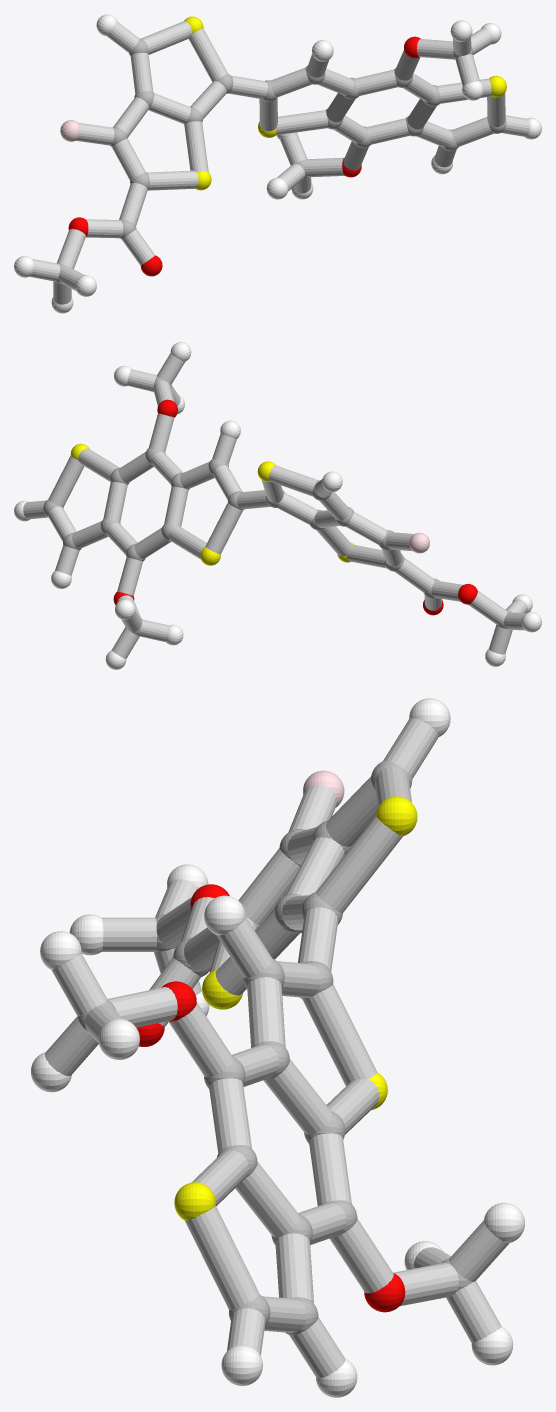
Rendered from Dimethoxy_Benzodithiophene_Phi_10_Theta_70_Methylcarbonyl_3_Fluoro_Thienothiophene.glb.
3 views of the same model, one above another, from view 1: azimuth 30°, elevation 25°; view 2: azimuth 150°, elevation 25°; view 3: azimuth 270°, elevation 25° (orthographic). The views are drawn at different scales.
Visible parts, largest first — view 1: grp15205, grp8689, grp1, grp13395, grp7241, grp14843; view 2: grp15205, grp8689, grp1, grp13395, grp7241; view 3: grp15205, grp8689, grp1, grp7241, grp13395.
Part boxes in pixels (box(x1,y1,x2,y2)): grp15205: box(29, 21, 530, 304); grp8689: box(14, 14, 541, 313); grp1: box(55, 38, 506, 284); grp13395: box(68, 36, 420, 276); grp7241: box(184, 16, 506, 190); grp14843: box(60, 120, 80, 141); grp15205: box(23, 353, 527, 658); grp8689: box(14, 342, 541, 669); grp1: box(43, 376, 511, 635); grp13395: box(113, 399, 477, 615); grp7241: box(70, 443, 354, 565); grp15205: box(45, 718, 508, 1378); grp8689: box(31, 698, 524, 1397); grp1: box(77, 760, 472, 1335); grp7241: box(174, 796, 417, 1220); grp13395: box(136, 884, 405, 1312).
Bounding box in the file's own units: 17.06 × 7.54 × 7.14.
